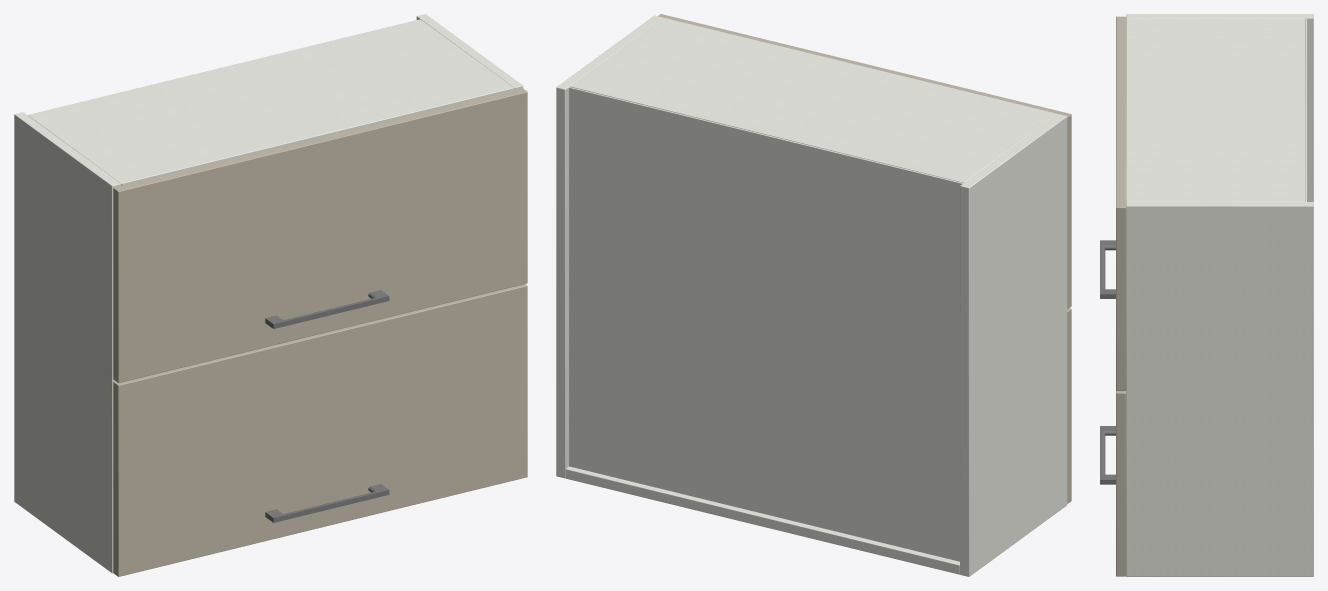
3 renders of one model, left to right at view 1: azimuth 30°, elevation 25°; view 2: azimuth 150°, elevation 25°; view 3: azimuth 270°, elevation 25°, orthographic. The views are drawn at different scales.
Parts seen in each view (by area): view 1: v9, STRANICA LEVA, VEZNA PREDNJA, Union (×2), STRANICA DESNA; view 2: LEĐA, STRANICA LEVA, VEZNA PREDNJA, STRANICA DESNA, POD, v9; view 3: STRANICA DESNA, VEZNA PREDNJA, v9, STRANICA LEVA, Union (×2), LEĐA.
Boxes of the visible parts, <box> form: v9: <box>113,88,527,576</box>; STRANICA LEVA: <box>14,112,120,573</box>; VEZNA PREDNJA: <box>28,19,514,185</box>; Union (×2): <box>265,290,389,522</box>; STRANICA DESNA: <box>416,14,523,89</box>; LEĐA: <box>569,87,963,561</box>; STRANICA LEVA: <box>960,114,1067,576</box>; VEZNA PREDNJA: <box>570,18,1057,182</box>; STRANICA DESNA: <box>556,15,662,478</box>; POD: <box>565,466,959,574</box>; v9: <box>658,14,1071,503</box>; STRANICA DESNA: <box>1126,202,1313,576</box>; VEZNA PREDNJA: <box>1126,18,1305,201</box>; v9: <box>1116,16,1126,576</box>; STRANICA LEVA: <box>1126,14,1313,201</box>; Union (×2): <box>1100,240,1115,484</box>; LEĐA: <box>1305,18,1306,201</box>.
Bounding box in the file's own units: 0.8 × 0.72 × 0.376.
Materials: 3 (2 with a texture image).
